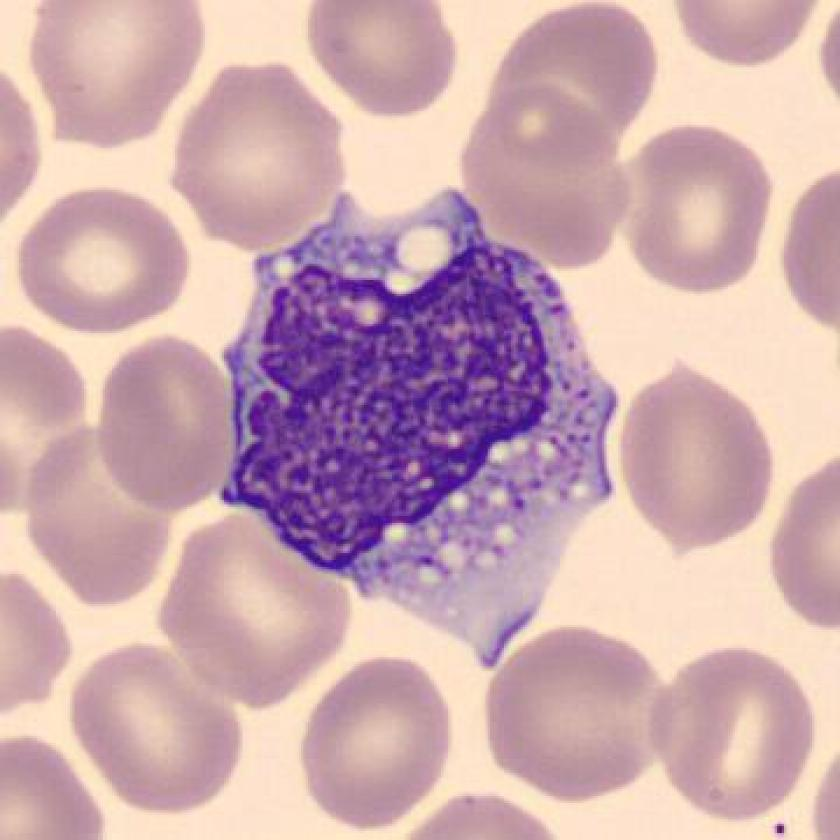monocyte: (204, 156, 631, 665)
